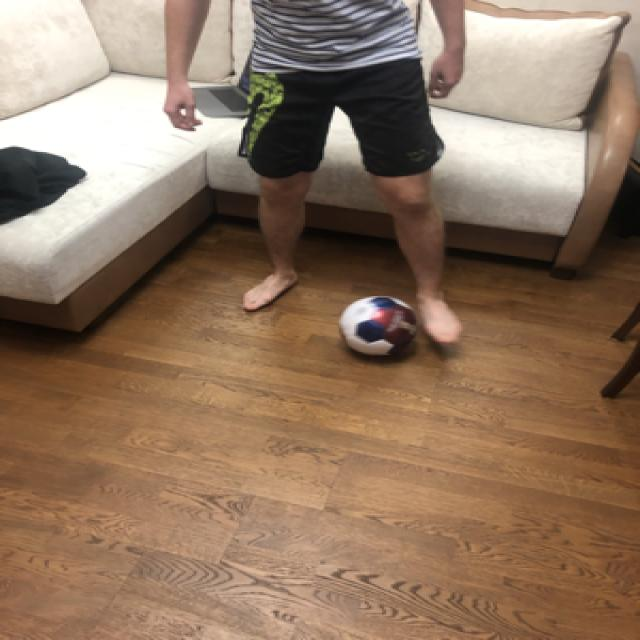soccer_ball: (337, 293, 420, 358)
